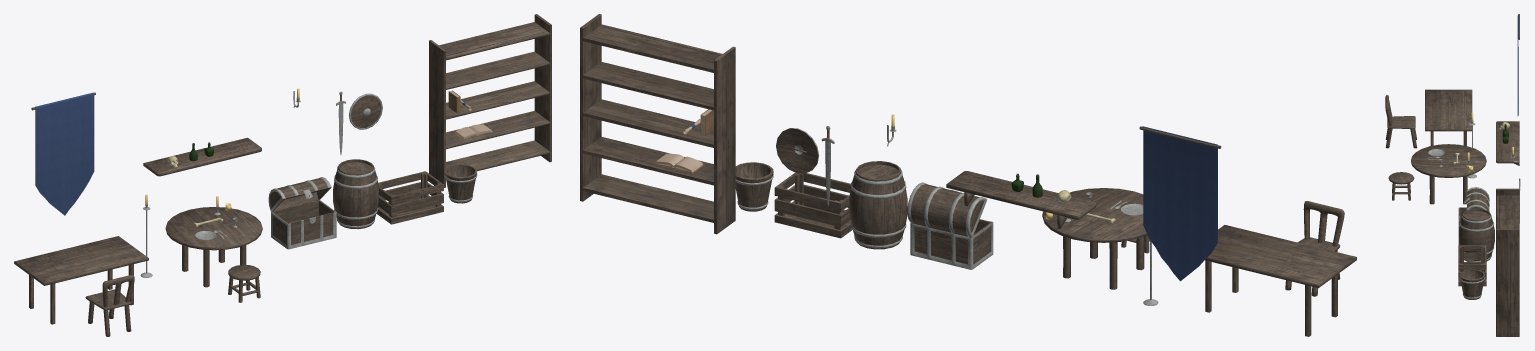
File: interior_items.glb
3 views of the same model, side by side, from view 1: azimuth 30°, elevation 25°; view 2: azimuth 150°, elevation 25°; view 3: azimuth 270°, elevation 25° (orthographic). The views are drawn at different scales.
Visible parts, largest first — view 1: Bookshelf, Tapestry, Table - Rectangular, Table - Round, Barrel, Crate, Chest, Shelf, Chair, Lid, Bucket, Shield (+1 smaller); view 2: Bookshelf, Tapestry, Table - Rectangular, Table - Round, Barrel, Crate, Shelf, Lid, Chest, Bucket, Shield, Chair (+1 smaller); view 3: Bookshelf, Table - Round, Table - Rectangular, Barrel, Shelf, Crate, Chair, Bucket, Lid, Stool, Tapestry.
Boxes of the visible parts, x1,y1,x2,y2 form: Bookshelf: (429,14,551,187); Tapestry: (35,92,94,215); Table - Rectangular: (14,236,148,324); Table - Round: (165,207,262,287); Barrel: (333,159,378,229); Crate: (376,171,443,224); Chest: (271,200,336,249); Shelf: (143,137,261,176); Chair: (85,274,134,336); Lid: (268,177,331,211); Bucket: (444,164,477,203); Shield: (349,93,382,129); Bookshelf: (580,14,735,234); Tapestry: (1142,126,1217,281); Table - Rectangular: (1205,225,1356,336); Table - Round: (1042,188,1147,289); Barrel: (849,161,907,249); Crate: (774,172,852,238); Shelf: (946,171,1096,228); Lid: (907,182,987,237); Chest: (910,219,993,269); Bucket: (735,162,773,211); Shield: (776,128,819,173); Chair: (1285,201,1344,296); Bookshelf: (1496,188,1519,336); Table - Round: (1411,144,1486,204); Table - Rectangular: (1425,89,1472,145); Barrel: (1458,208,1494,261); Shelf: (1496,121,1519,165); Crate: (1458,245,1486,286); Chair: (1385,95,1417,148); Bucket: (1459,269,1485,299); Lid: (1463,187,1489,211); Stool: (1388,172,1414,200); Tapestry: (1517,15,1519,115).
Size of the model in its own units: 3.28 by 0.9444 by 0.8856.
Materials: 8 (8 with a texture image).
